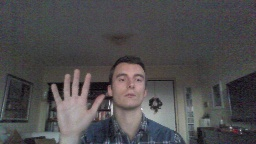Mano_aperta: (49, 66, 106, 137)
